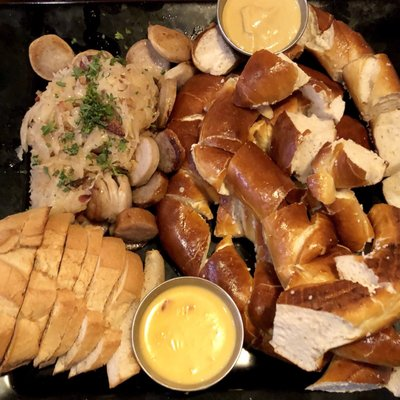pasta: (382, 169, 400, 209)
sushi: (131, 276, 244, 391)
